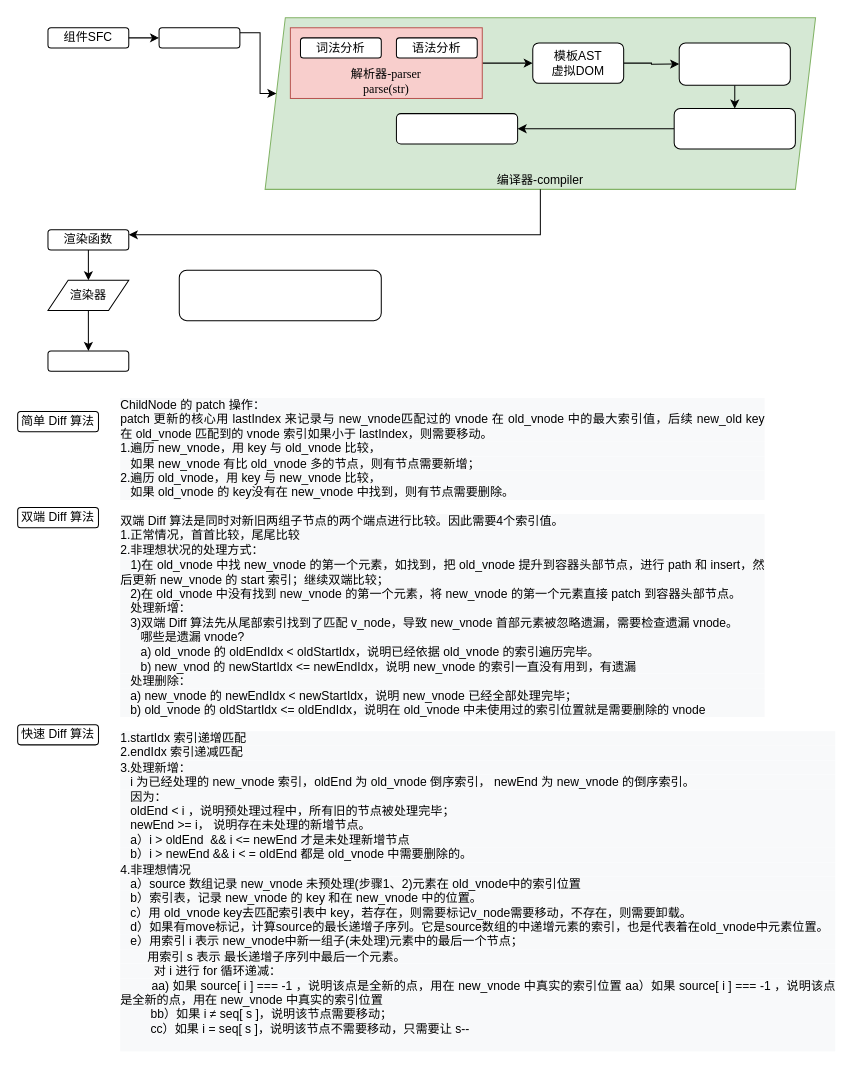
This 853x1086 diagram has some shape labels left out. Here are the shapes that lost their labels. From the top down, the centre of each, then its label:
the point at 199,37: 模板
the point at 734,63: Transformer transform(ast)
the point at 456,128: generate(JSAST)
the point at 734,128: JavaScript AST (虚拟DOM)
the point at 279,295: Diff 算法 目的：为了更新元素 属性(patch)和位置(insert)
the point at 88,360: 真实DOM
